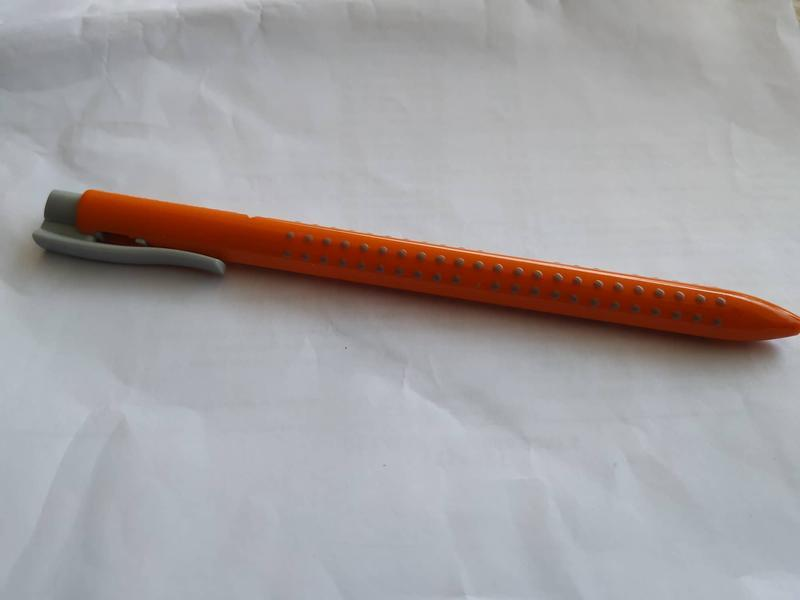qillqana: (19, 156, 800, 389)
